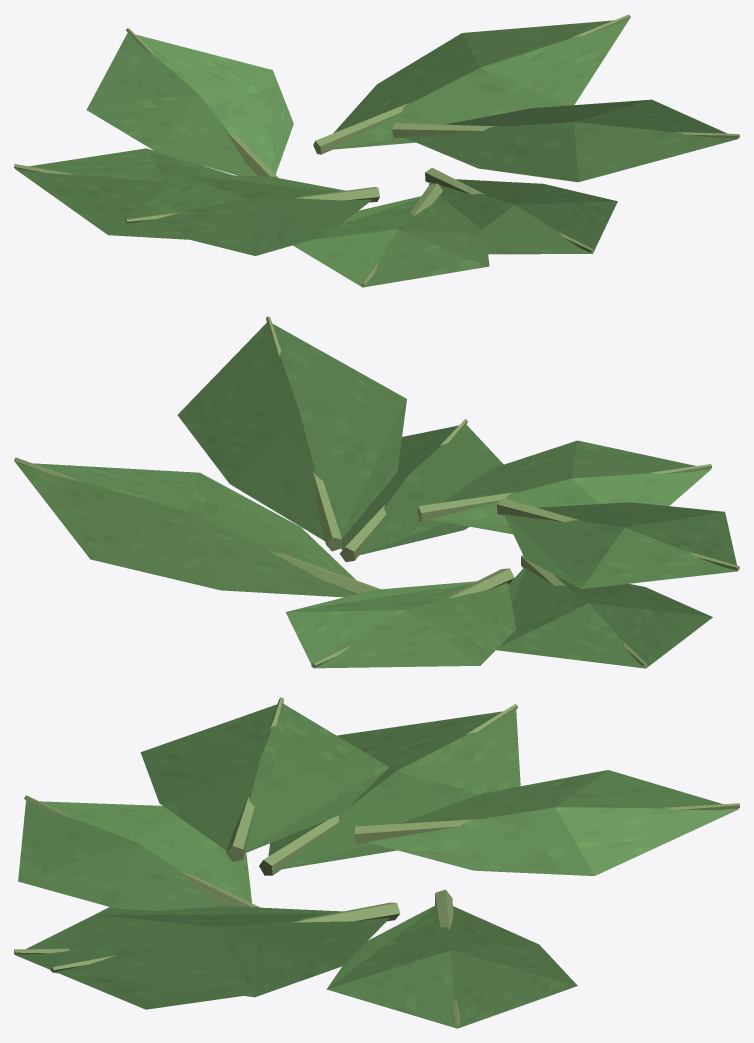
File: grape_leaves.glb
3 views of the same model, one above another, from view 1: azimuth 30°, elevation 25°; view 2: azimuth 150°, elevation 25°; view 3: azimuth 270°, elevation 25° (orthographic). The views are drawn at different scales.
Visible parts, largest first — view 1: block_veined leaf blade (×14), block_veined leaf tip (×14), block_veined leaf vein (×6); view 2: block_veined leaf blade (×14), block_veined leaf tip (×14), block_veined leaf vein (×7); view 3: block_veined leaf blade (×13), block_veined leaf tip (×14), block_veined leaf vein (×6).
Boxes of the visible parts, left/top/right/bottom form: block_veined leaf blade (×14): left=87, top=33, right=651, bottom=266; block_veined leaf tip (×14): left=15, top=19, right=738, bottom=287; block_veined leaf vein (×6): left=125, top=14, right=739, bottom=286; block_veined leaf blade (×14): left=90, top=399, right=724, bottom=665; block_veined leaf tip (×14): left=15, top=323, right=738, bottom=668; block_veined leaf vein (×7): left=14, top=316, right=739, bottom=667; block_veined leaf blade (×13): left=18, top=752, right=607, bottom=1009; block_veined leaf tip (×14): left=14, top=703, right=738, bottom=1028; block_veined leaf vein (×6): left=24, top=697, right=739, bottom=1027.
Bounding box in the file's own units: 0.1058 × 0.0151 × 0.0933.
Materials: 2 (2 with a texture image).
